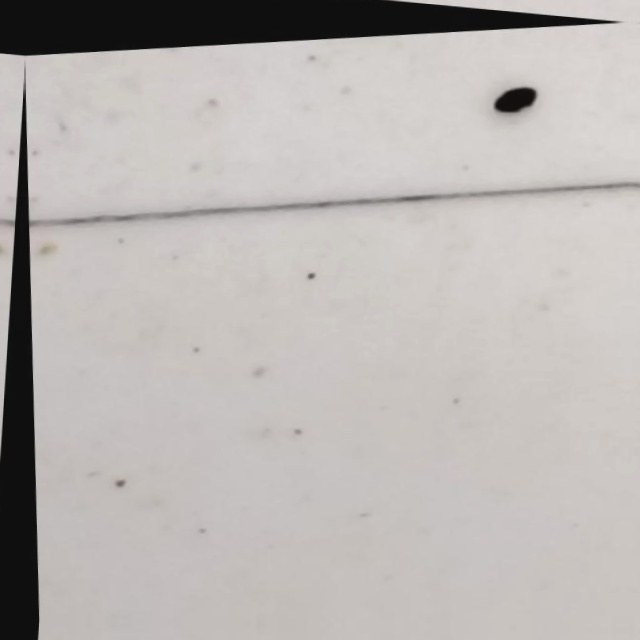varroa: (486, 83, 538, 116)
